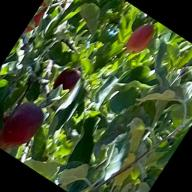Apples: (0, 96, 50, 154), (123, 18, 159, 58), (50, 62, 84, 98), (24, 0, 52, 37), (71, 0, 98, 9)
